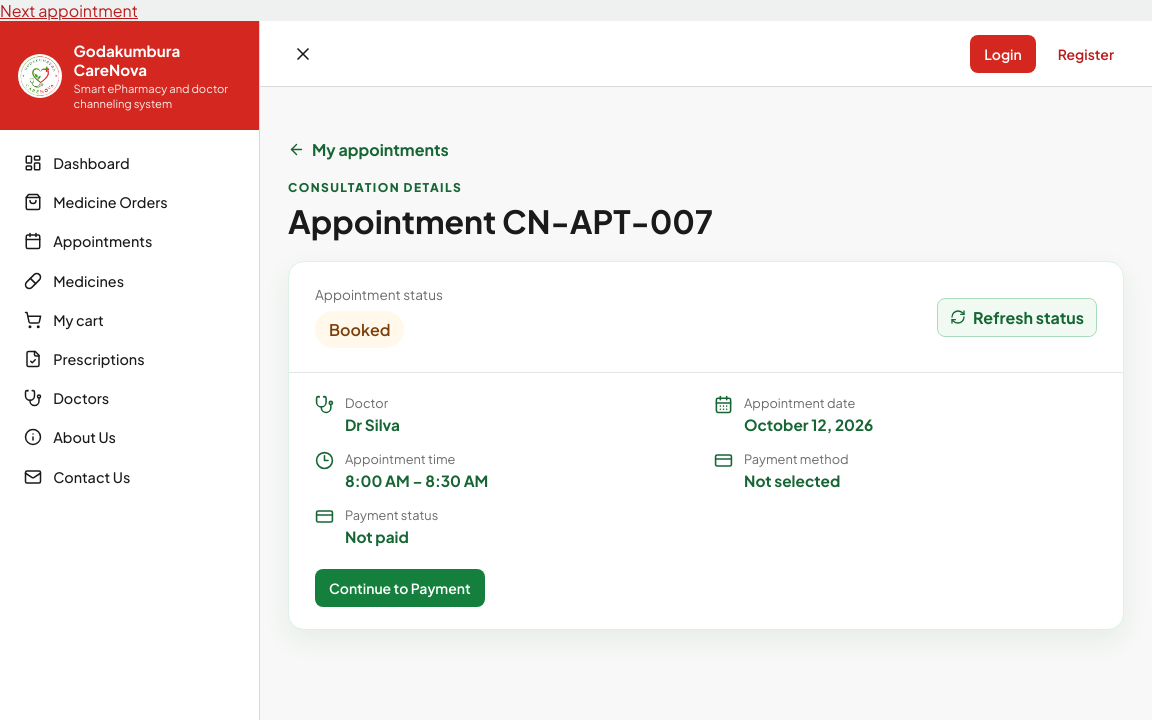
Scenario: keeps last loaded information visible with an error after a failed refresh
The width and height of the screenshot is (1152, 720).
Expected: the text "Dr Silva" is shown, x1=345 y1=415 x2=400 y2=434
Click the button "Refresh status": (1017, 317) x1=937 y1=298 x2=1097 y2=337
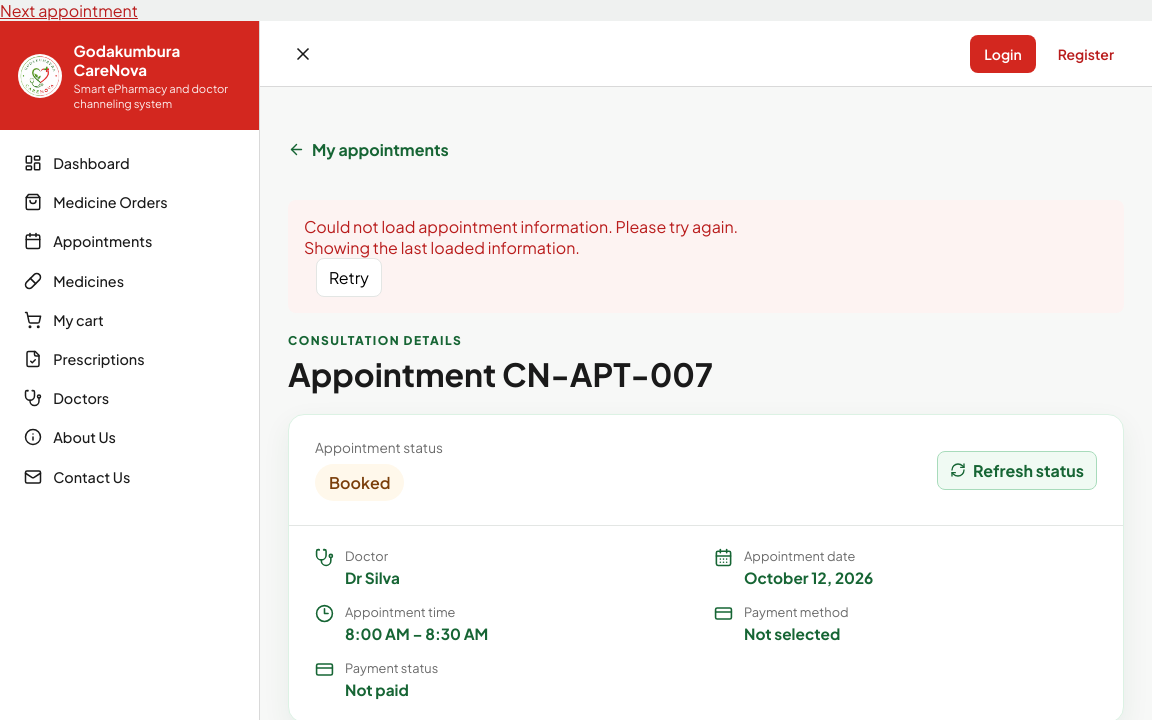
Expected: the text "Dr Silva" is shown, x1=345 y1=568 x2=400 y2=587
Now the message shows "Could not load", box x1=304 y1=216 x2=738 y2=237
